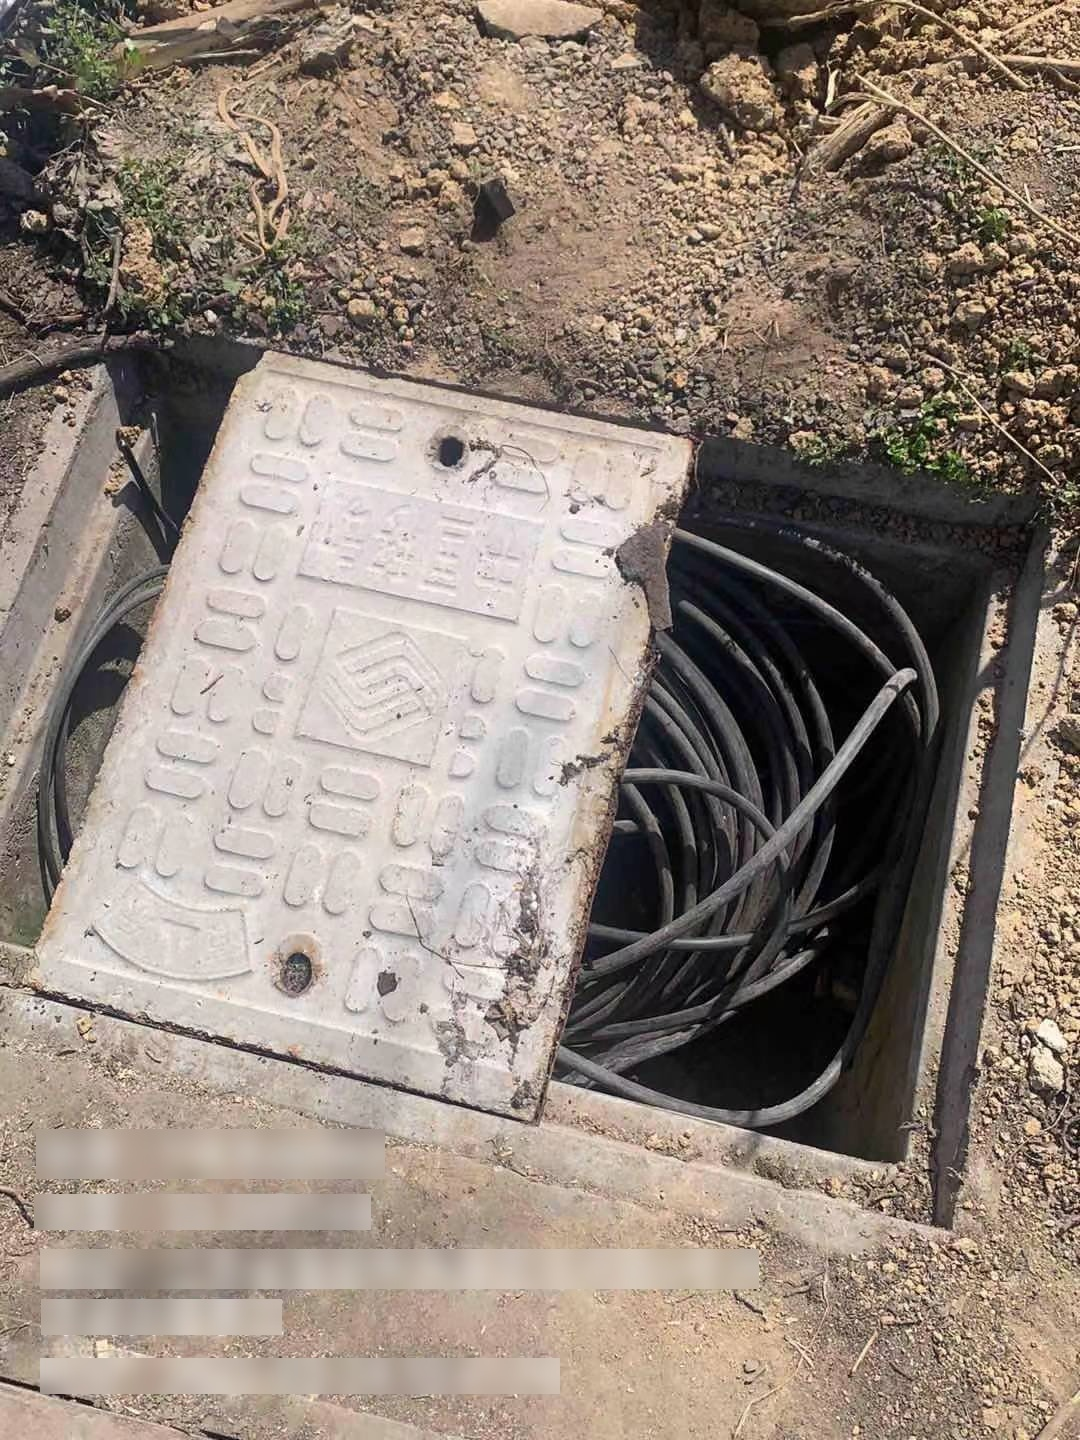lose: (12, 308, 1055, 1242)
